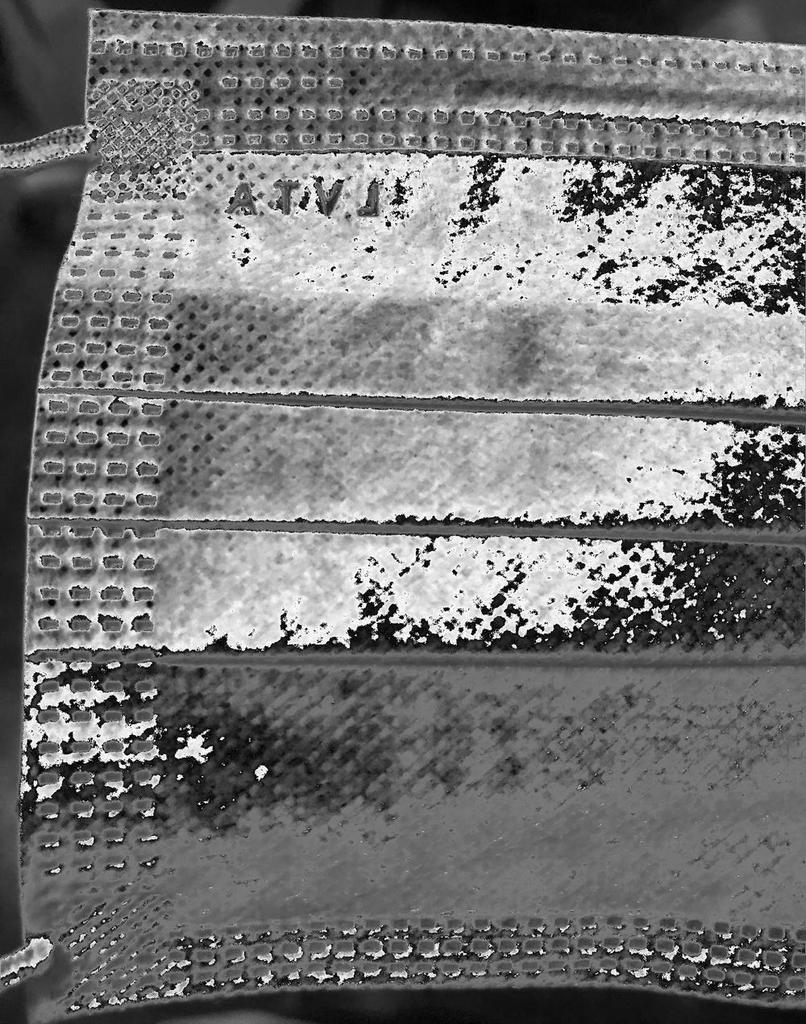High GSM: (185, 150, 804, 641)
